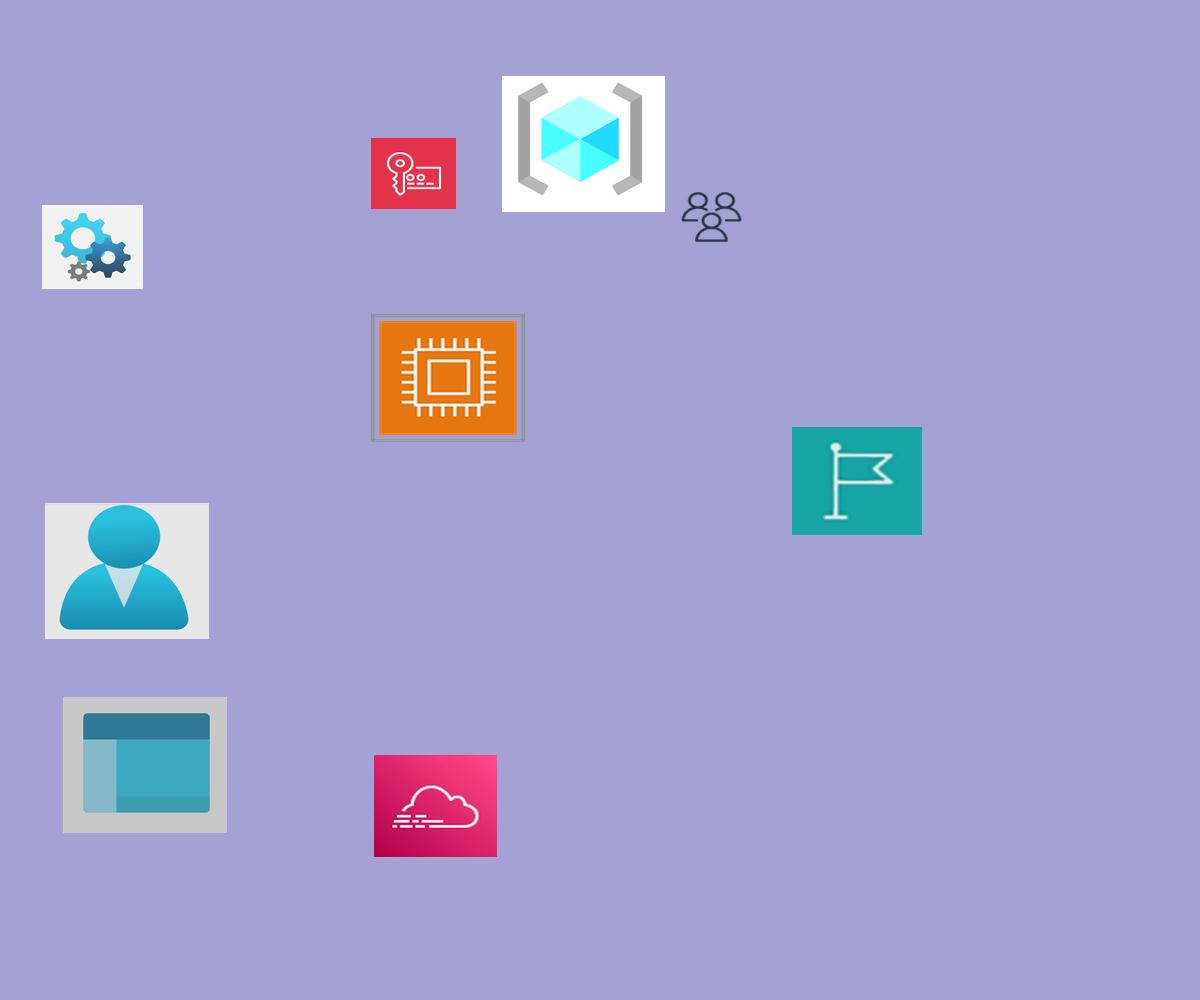AWS-Category_Compute: (371, 314, 525, 442)
AWS-CloudTrail: (374, 755, 497, 857)
AWS-Key-Management-Service: (371, 138, 456, 209)
AWS-Region: (792, 427, 922, 535)
AWS-Res_Users: (679, 190, 744, 244)
Azure_api: (42, 205, 143, 289)
Azure_management-portal: (63, 697, 227, 833)
Azure_resource_group: (502, 76, 665, 212)
Azure_users: (45, 503, 209, 639)
